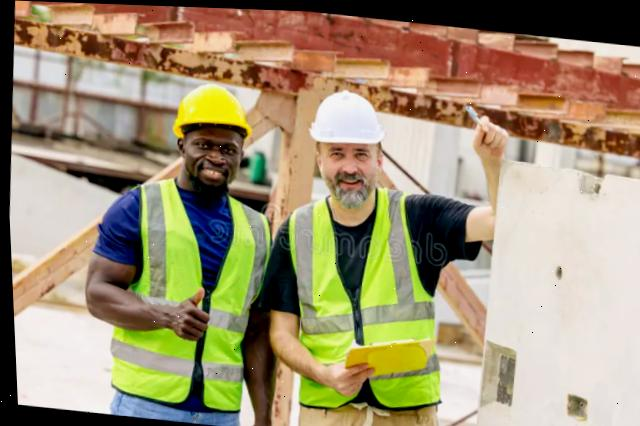helmet: (167, 77, 257, 145), (305, 80, 392, 145)
vest: (97, 175, 264, 407), (288, 171, 440, 414)
